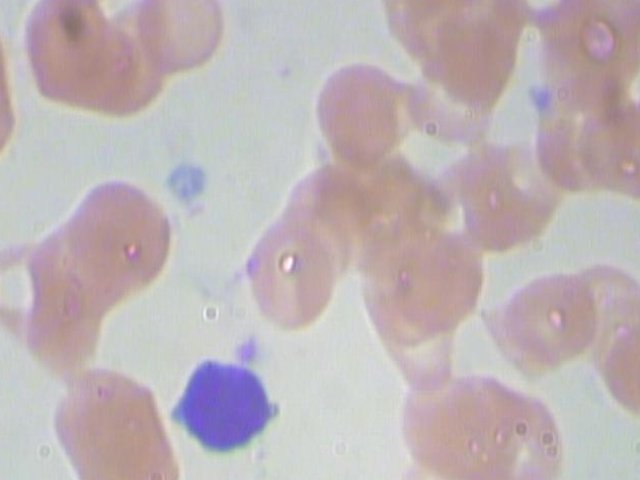Platelets: (156, 150, 218, 207), (524, 79, 562, 120), (229, 330, 266, 368)
RBC: (303, 45, 414, 172), (69, 170, 180, 297), (451, 123, 562, 250), (387, 216, 498, 343), (242, 208, 352, 335), (492, 253, 602, 380), (388, 355, 499, 480), (66, 0, 177, 125), (386, 357, 497, 480), (533, 79, 640, 206), (48, 362, 158, 480), (469, 377, 581, 480), (422, 0, 532, 104), (15, 0, 125, 101), (561, 253, 640, 374), (123, 0, 233, 86), (0, 229, 65, 349), (490, 0, 602, 43), (363, 0, 475, 43)
WBC: (160, 355, 286, 454)
